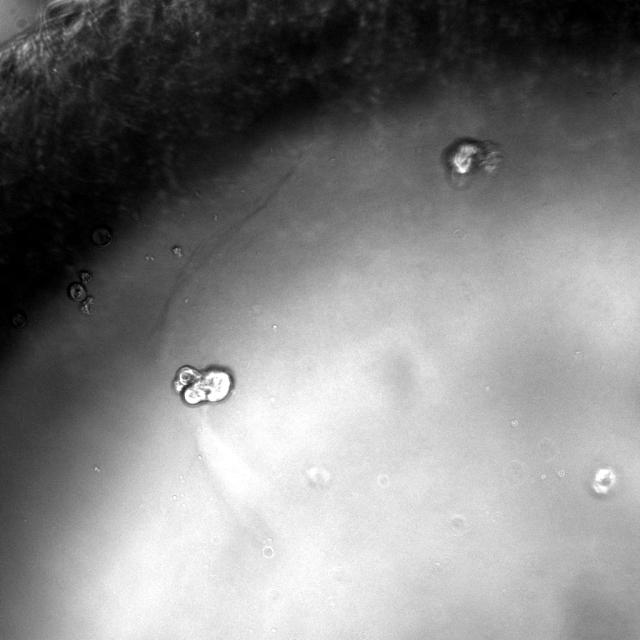organoid: (442, 138, 502, 187), (173, 365, 233, 405), (68, 271, 92, 313)
